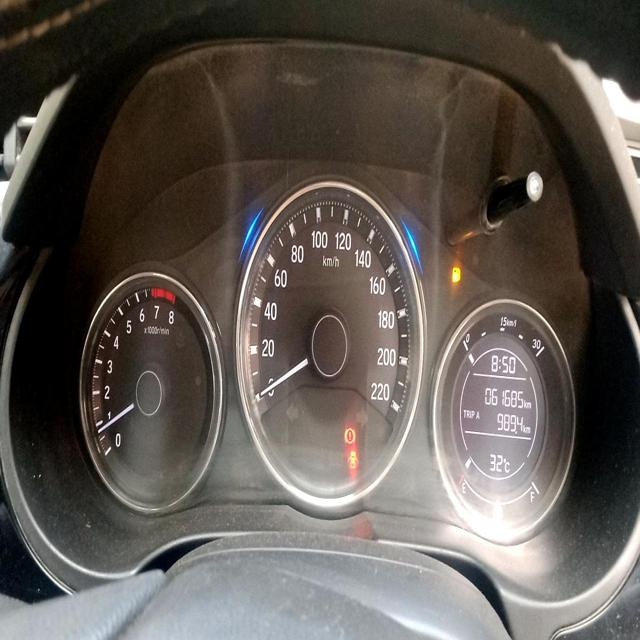odometer: (483, 384, 524, 410)
